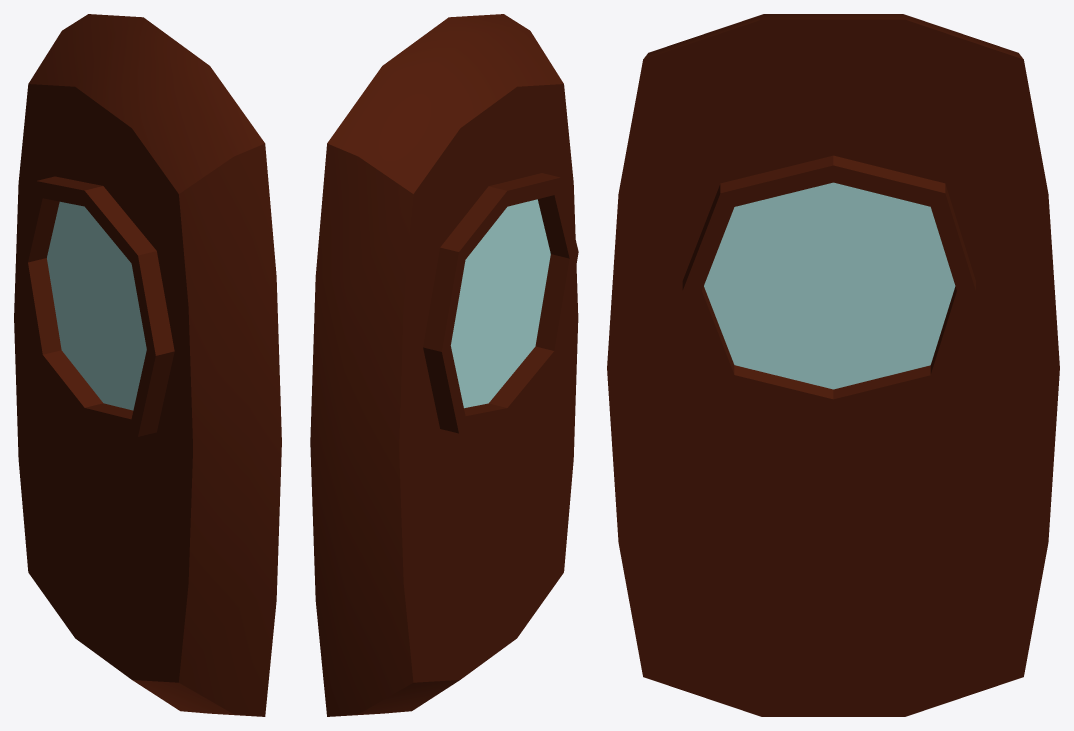
The model's file is BridgeHatch.fbx.
The picture shows the model from 3 angles, left to right: view 1: azimuth 30°, elevation 25°; view 2: azimuth 150°, elevation 25°; view 3: azimuth 270°, elevation 25°; orthographic projection. The views are drawn at different scales.
Visible parts, largest first — view 1: BridgeHatch, HatchWindow; view 2: BridgeHatch, HatchWindow; view 3: BridgeHatch, HatchWindow.
Part boxes in pixels (left/top/right/bottom): BridgeHatch: left=14, top=14, right=281, bottom=716; HatchWindow: left=47, top=201, right=146, bottom=410; BridgeHatch: left=310, top=14, right=578, bottom=716; HatchWindow: left=450, top=199, right=550, bottom=408; BridgeHatch: left=607, top=14, right=1059, bottom=716; HatchWindow: left=704, top=182, right=955, bottom=389.
Size of the model in its own units: 1.02 by 5.7 by 3.35.
